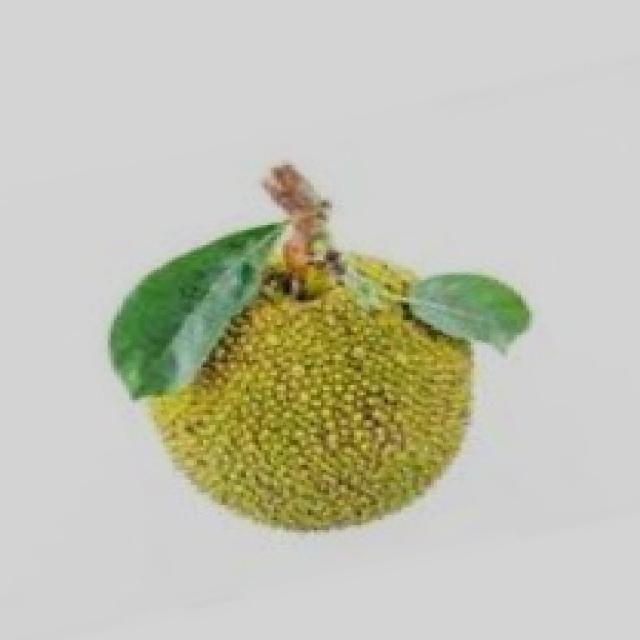Fruit: (114, 242, 498, 560)
